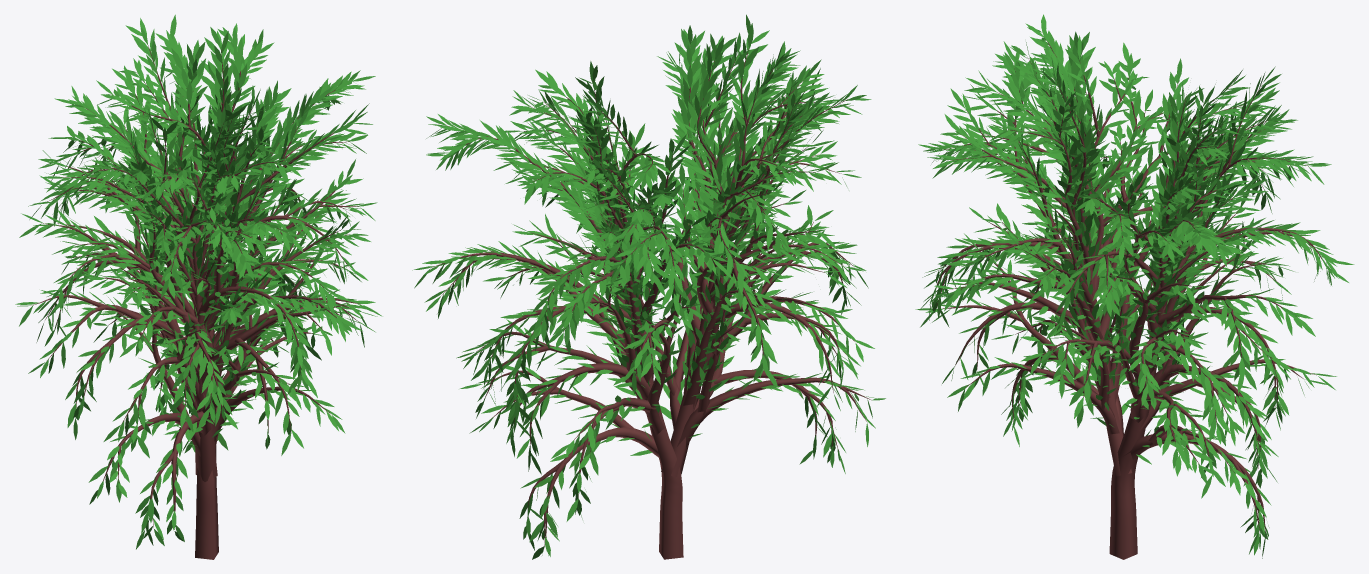
File: TheDerevo1.fbx
3 views of the same model, side by side, from view 1: azimuth 30°, elevation 25°; view 2: azimuth 150°, elevation 25°; view 3: azimuth 270°, elevation 25° (orthographic). The views are drawn at different scales.
Visible parts, largest first — view 1: leaves, tree; view 2: leaves, tree; view 3: leaves, tree.
Boxes of the visible parts, x1,y1,x2,y2 form: leaves: (15, 14, 382, 549); tree: (32, 44, 360, 559); leaves: (412, 14, 885, 559); tree: (431, 45, 871, 559); leaves: (915, 14, 1354, 558); tree: (936, 42, 1321, 559).
Size of the model in its own units: 6.51 by 7.91 by 6.27.
